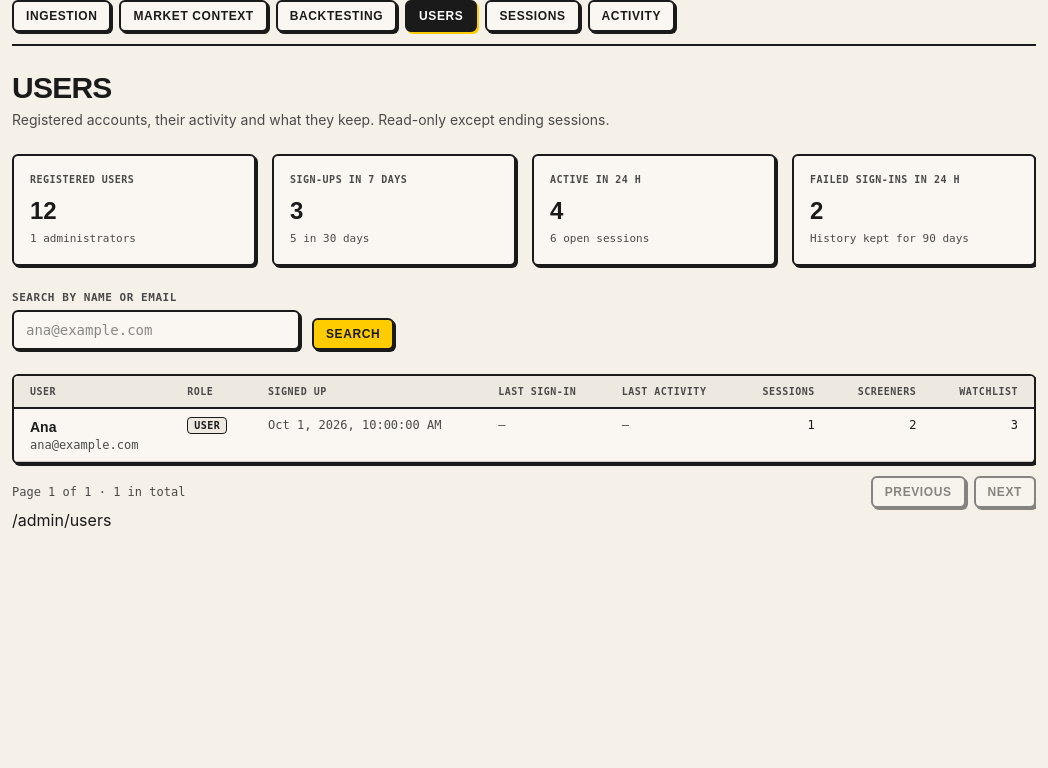
Admin users and sessions screens › shows summary tiles and searches users through the URL
The width and height of the screenshot is (1048, 768).
Expected: the text "History kept for 90 days" is shown, [810, 232, 969, 245]
Expected: the text "12" is shown, [30, 197, 57, 224]
Type "ana" into the search field labelled "Search by name or email" at (156, 330), box [12, 310, 300, 350]
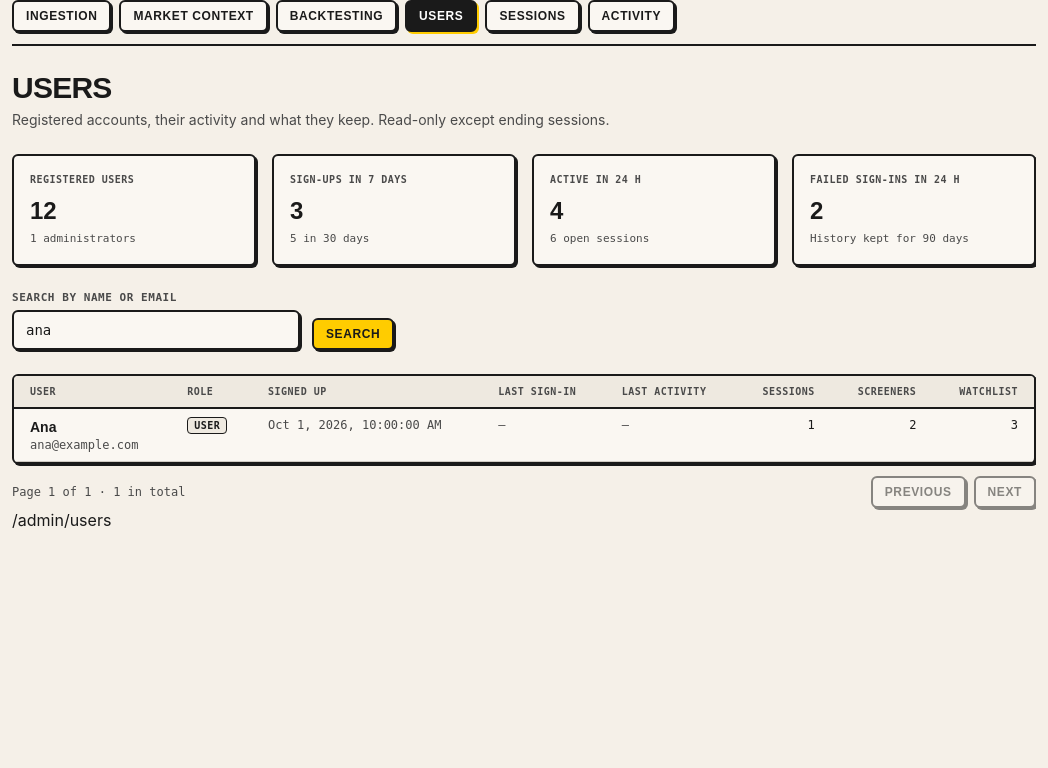
Click the button "Search" at (353, 334), box [312, 318, 394, 350]
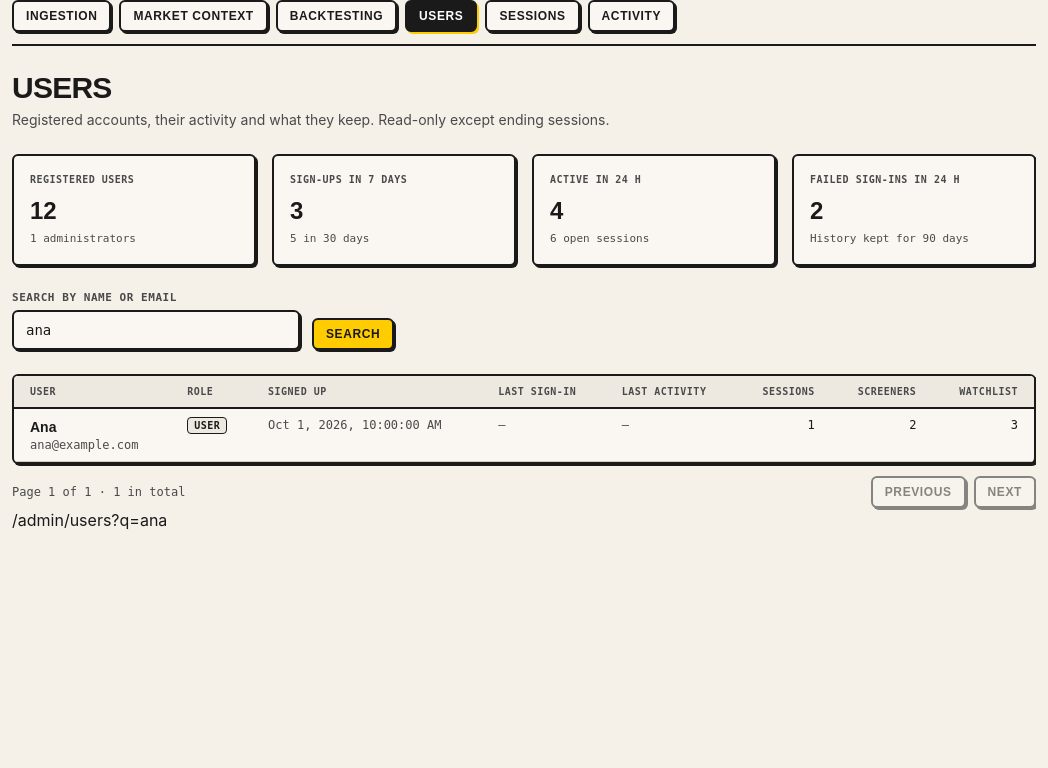
Expected: the text with test id "location" reads "/admin/users?q=ana", [12, 510, 167, 530]
